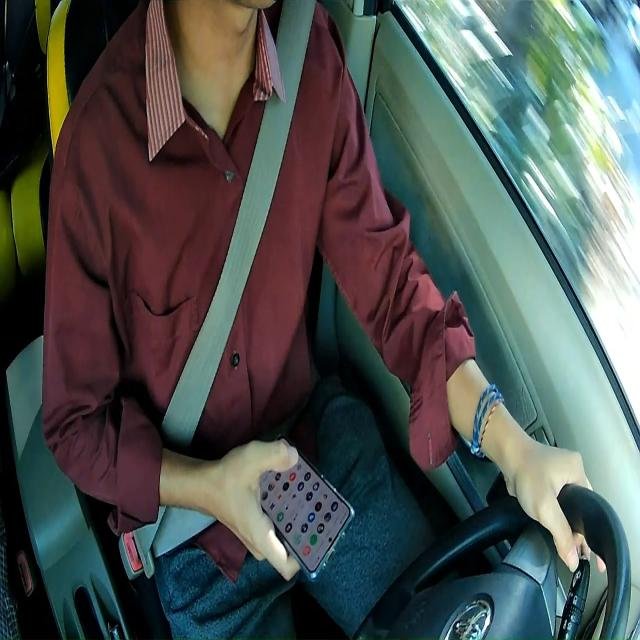phone: (253, 434, 354, 580)
